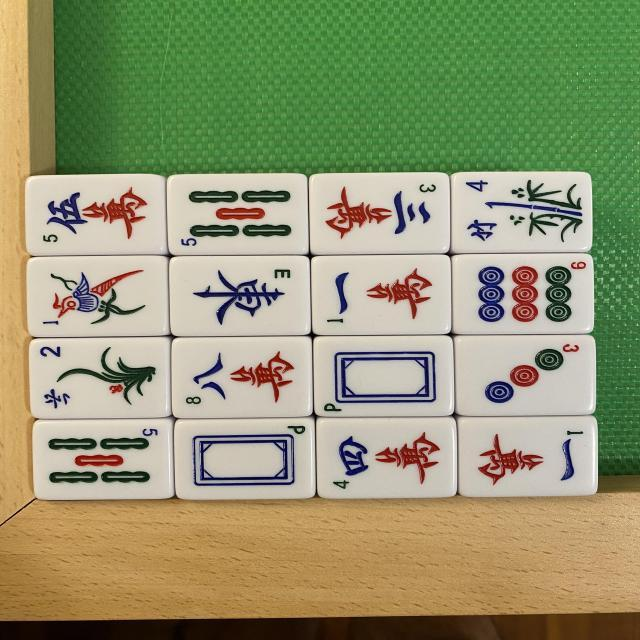bf2: (31, 336, 167, 419)
bf4: (458, 178, 589, 246)
hdw: (321, 342, 446, 412), (182, 424, 310, 492)
hwe: (181, 263, 303, 326)
sb1: (32, 266, 158, 330)
sb5: (36, 425, 166, 493), (170, 182, 300, 247)
sc1: (320, 260, 442, 330), (461, 423, 586, 485)
sc3: (315, 177, 445, 249)
sc4: (318, 422, 451, 492)
sc5: (25, 177, 161, 252)
sc8: (175, 342, 302, 411)
sd3: (460, 340, 590, 408)
sd9: (453, 257, 589, 328)
